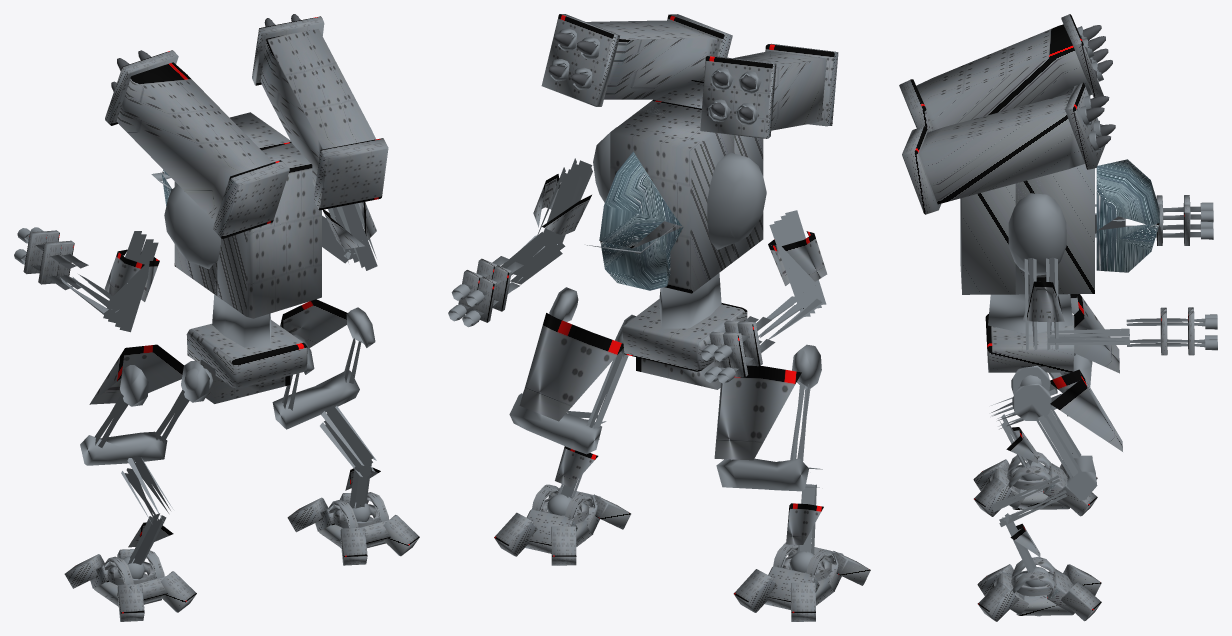
Rendered from v3d-mecha.glb.
3 views of the same model, side by side, from view 1: azimuth 30°, elevation 25°; view 2: azimuth 150°, elevation 25°; view 3: azimuth 270°, elevation 25° (orthographic). The views are drawn at different scales.
Parts seen in each view (by area): view 1: rumpf, unterschenkel_r, fuss_l, fuss_r, unterschenkel_l, oberschenkel_l, oberschenkel_r; view 2: rumpf, oberschenkel_r, oberschenkel_l, fuss_r, fuss_l, unterschenkel_l, unterschenkel_r; view 3: rumpf, fuss_r, fuss_l, oberschenkel_r, unterschenkel_r, unterschenkel_l, oberschenkel_l.
Part boxes in pixels (x1,y1,x2,y2): rumpf: [14, 14, 388, 406]; unterschenkel_r: [272, 370, 380, 521]; fuss_l: [64, 549, 196, 621]; fuss_r: [287, 492, 419, 565]; unterschenkel_l: [80, 431, 173, 579]; oberschenkel_l: [89, 344, 189, 447]; oberschenkel_r: [280, 299, 361, 410]; rumpf: [448, 14, 838, 389]; oberschenkel_r: [519, 313, 628, 428]; oberschenkel_l: [714, 365, 810, 461]; fuss_r: [494, 484, 630, 565]; fuss_l: [733, 542, 870, 621]; unterschenkel_l: [716, 458, 823, 572]; unterschenkel_r: [509, 393, 606, 515]; rumpf: [899, 14, 1217, 420]; fuss_r: [977, 556, 1101, 621]; fuss_l: [973, 452, 1097, 516]; oberschenkel_r: [1036, 369, 1122, 478]; unterschenkel_r: [992, 455, 1097, 587]; unterschenkel_l: [991, 354, 1092, 480]; oberschenkel_l: [1048, 294, 1119, 393].
Bounding box in the file's own units: 3.71 × 6 × 3.52.
Materials: 1 (1 with a texture image).
